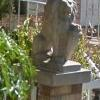Statue: (24, 3, 92, 95)
